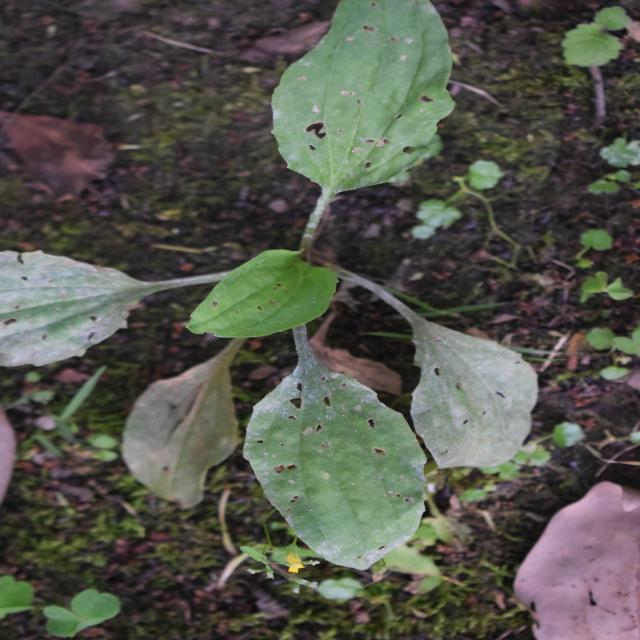plantain: (74, 168, 626, 487)
